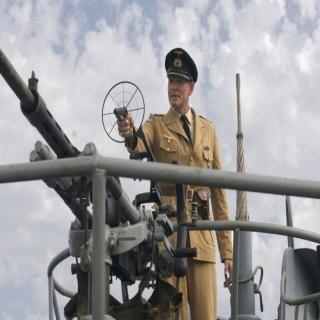gun: (113, 102, 131, 137)
